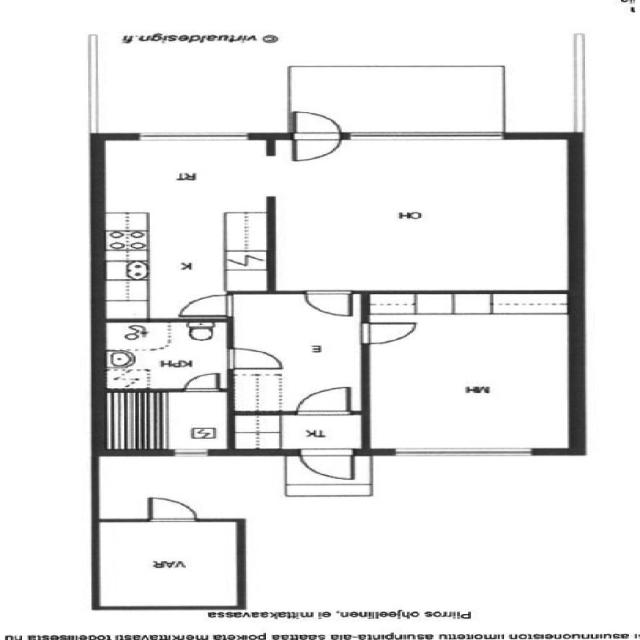door: (286, 108, 346, 166), (294, 446, 360, 484), (292, 384, 355, 417), (141, 493, 207, 524), (354, 318, 424, 346), (223, 346, 290, 374), (299, 288, 356, 320), (174, 293, 239, 320), (180, 370, 227, 394)
window: (345, 127, 509, 144), (383, 443, 542, 460), (130, 127, 258, 143), (163, 447, 218, 460)
zone: (270, 135, 580, 293), (95, 124, 278, 325), (363, 292, 578, 450), (226, 291, 362, 415), (95, 518, 244, 609), (99, 321, 232, 391), (96, 387, 232, 454), (224, 412, 370, 452)
